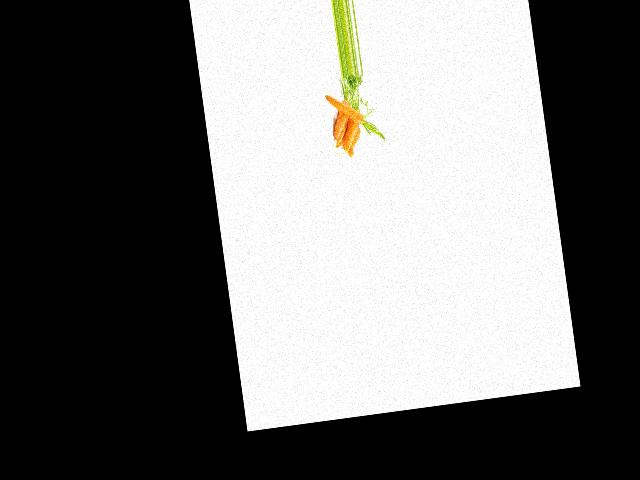carrot: (330, 97, 355, 145)
